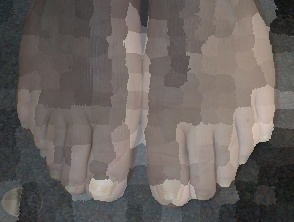Nail_psoriasis: (81, 162, 126, 206), (150, 173, 187, 204), (259, 126, 279, 146), (192, 186, 213, 204), (46, 165, 64, 183), (216, 174, 235, 191), (63, 179, 82, 194), (236, 153, 252, 167), (37, 145, 51, 161), (17, 118, 31, 133)
